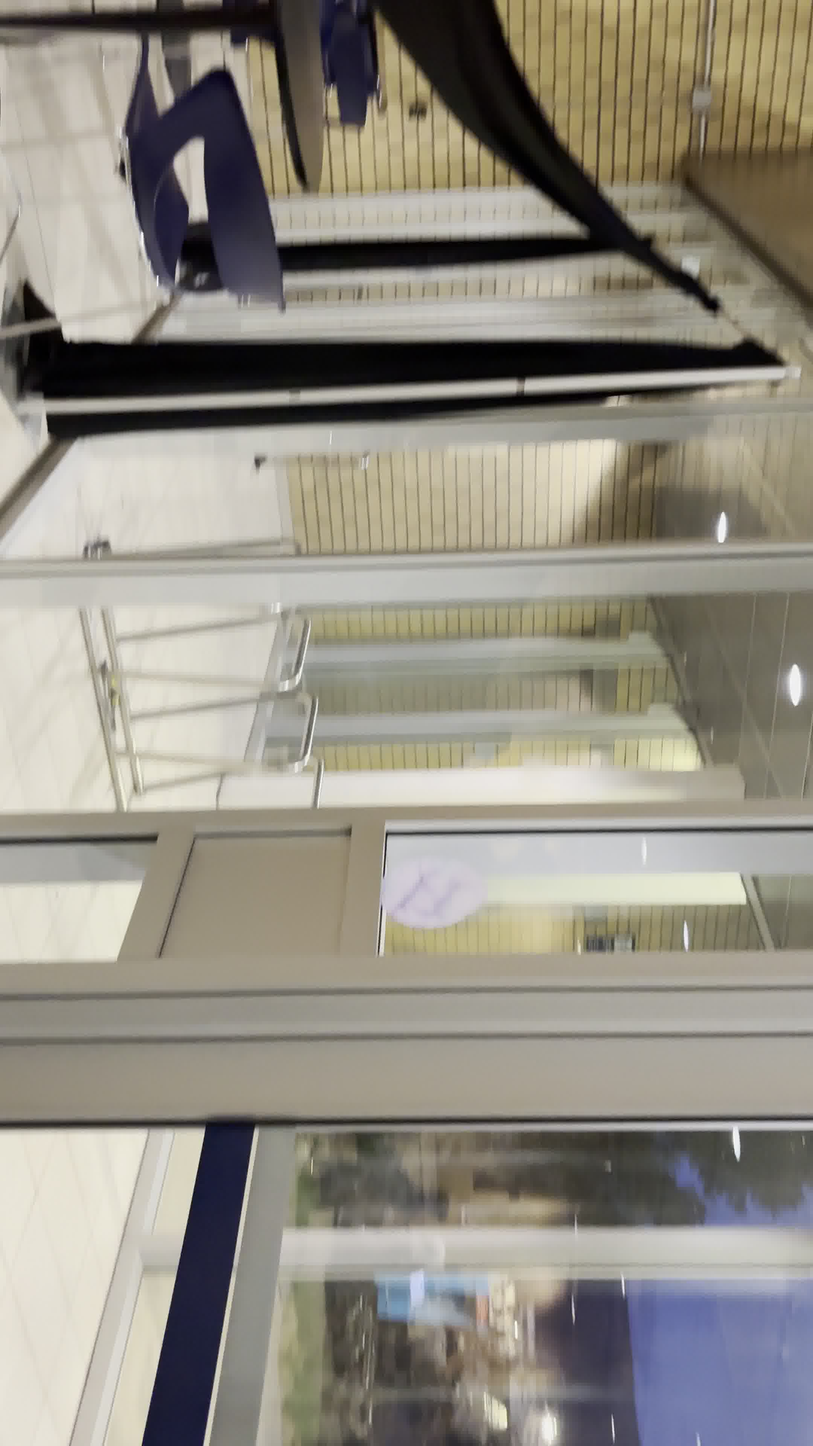Target: (377, 854, 488, 931)
